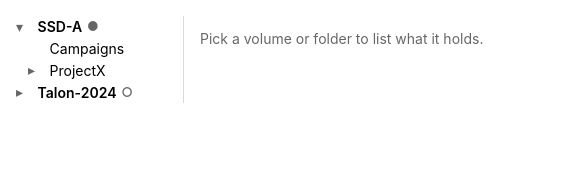
Test: the count line names the items and the folders they came from
This screenshot has width=586, height=173.
Step 1. Click the button named "ProjectX folders" → (35, 70), box [28,64,42,78]
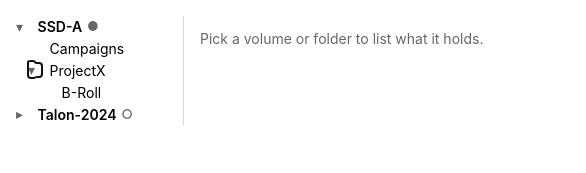
Step 2. Click the button "B-Roll" → (114, 92), box [57,81,171,103]
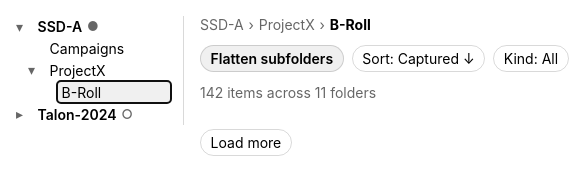
Expected: the text "142 items across 11 folders" is shown, [200,84,376,101]
